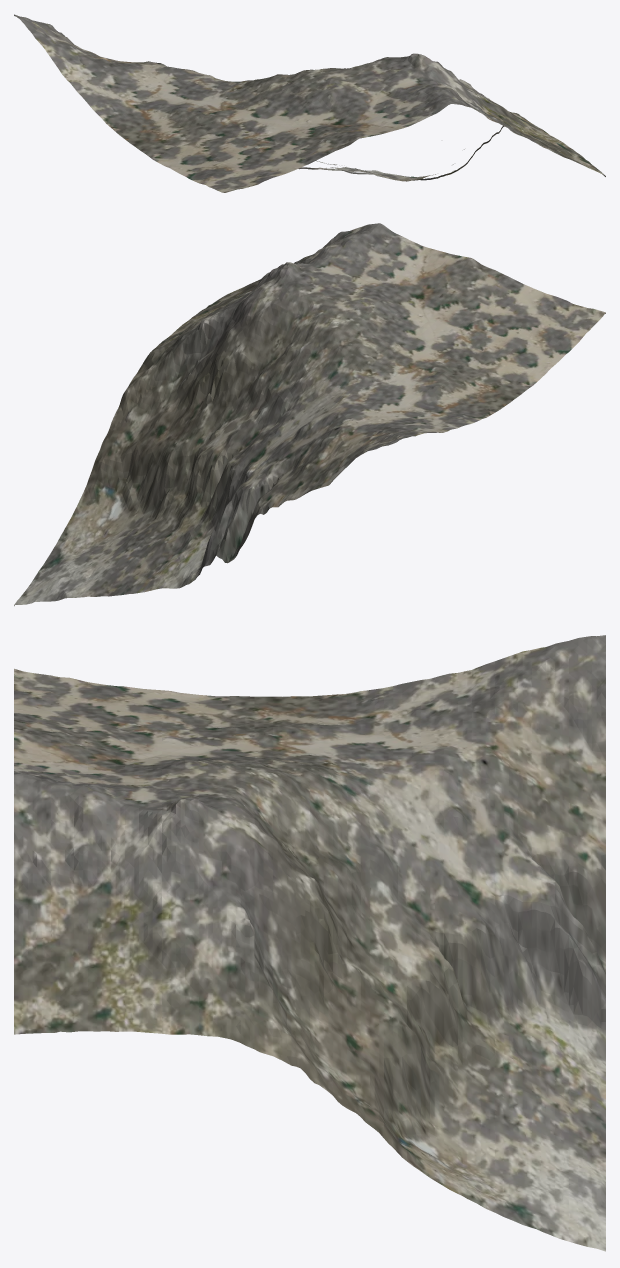
3 views of the same model, one above another, from view 1: azimuth 30°, elevation 25°; view 2: azimuth 150°, elevation 25°; view 3: azimuth 270°, elevation 25° (orthographic). The views are drawn at different scales.
Size of the model in its own units: 250 by 167 by 241.
1 material, 1 textured.
